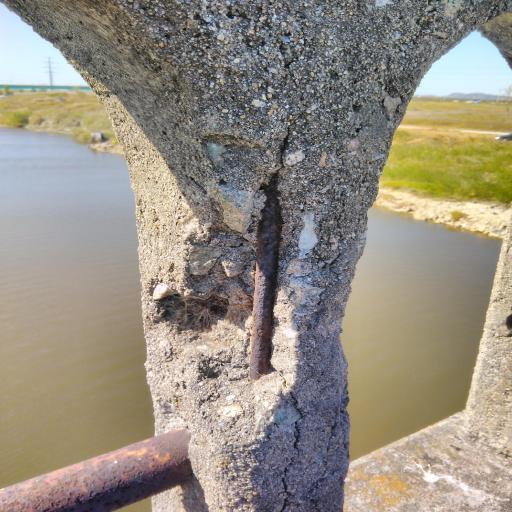exposed_rebar: (250, 174, 282, 380)
spalling: (155, 136, 322, 456)
